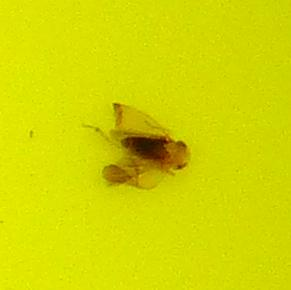Hemiptera: (100, 100, 191, 190)
